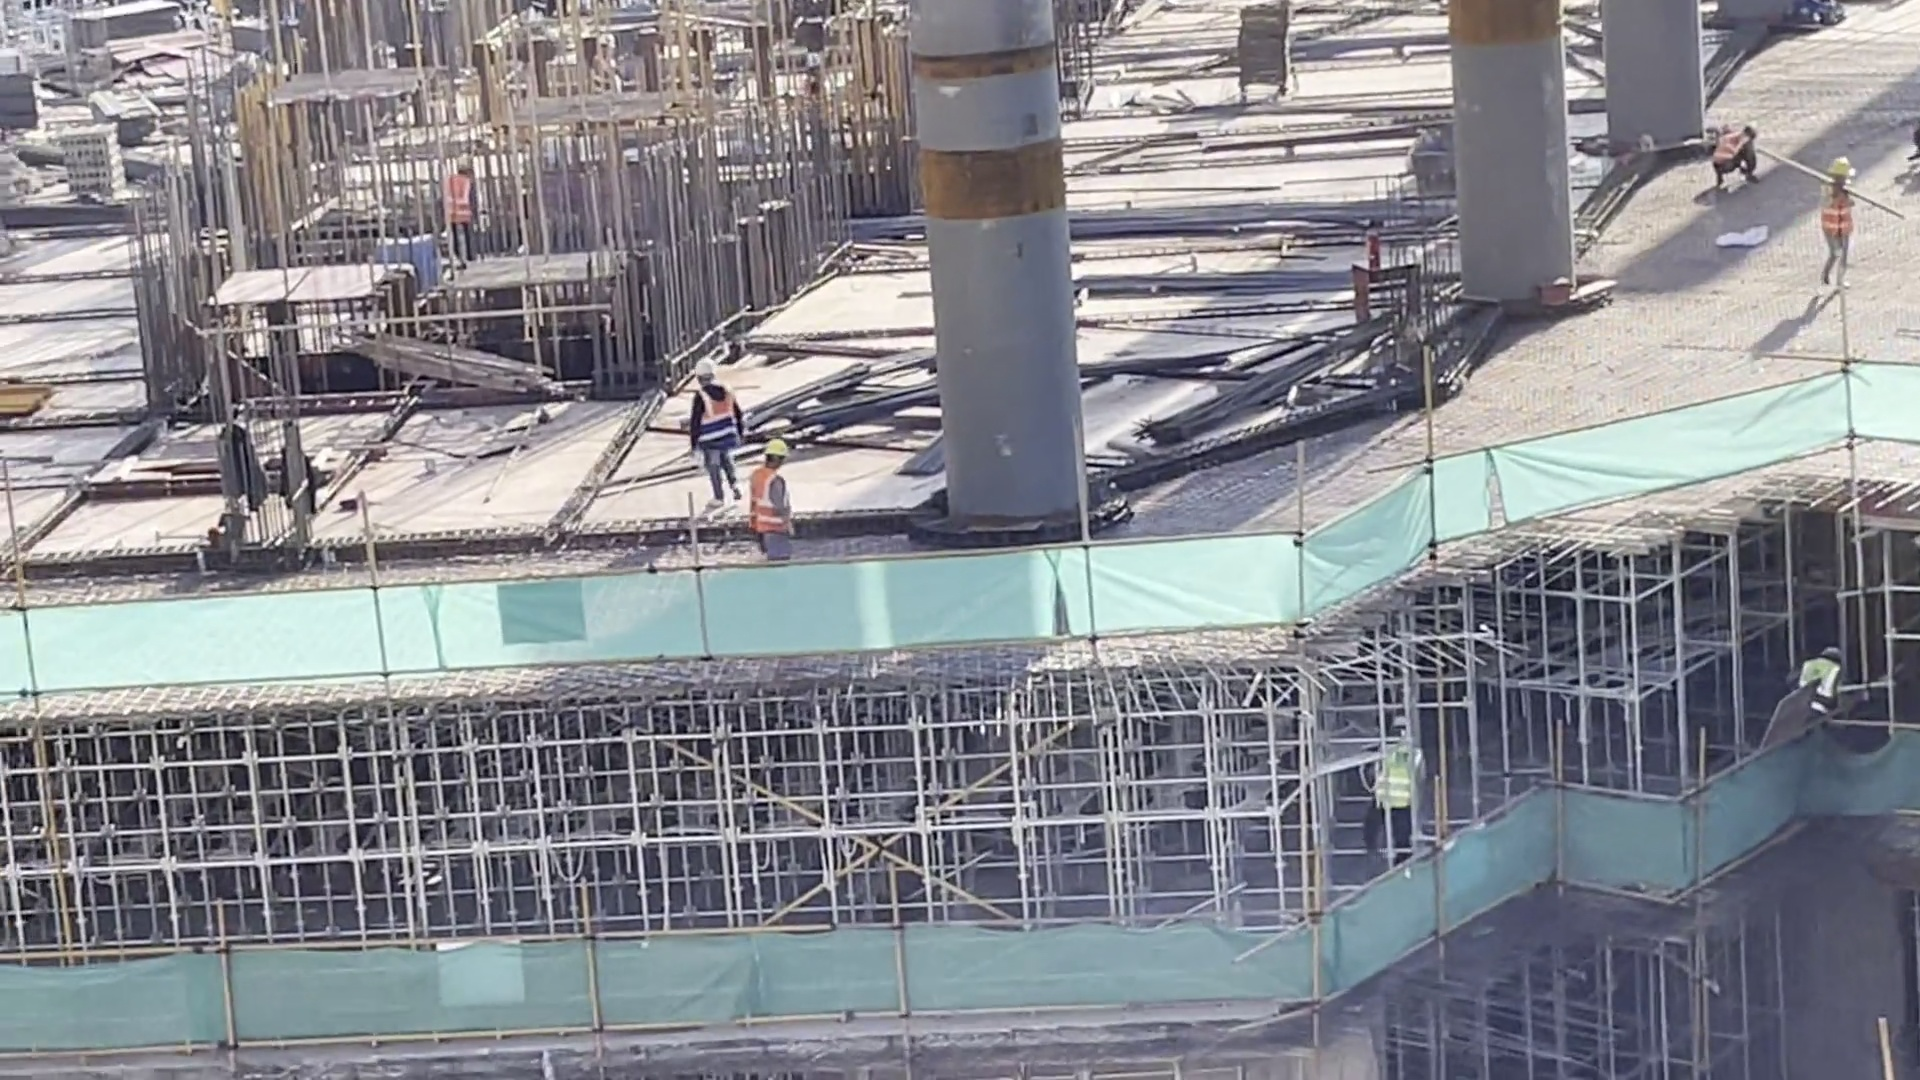helmet: (454, 150, 484, 179), (1393, 719, 1423, 743), (684, 361, 718, 383), (759, 435, 786, 460), (1828, 643, 1851, 664), (1833, 156, 1852, 179), (1748, 119, 1767, 139)
person: (1355, 706, 1432, 885), (663, 363, 738, 526), (1802, 156, 1865, 280), (756, 436, 812, 563), (433, 148, 484, 254), (1793, 632, 1849, 731), (1714, 117, 1751, 171)
vest: (743, 467, 801, 534), (686, 392, 738, 445), (1824, 184, 1855, 244), (1374, 741, 1414, 789), (442, 186, 471, 229), (1714, 136, 1749, 172), (1805, 665, 1825, 705)
